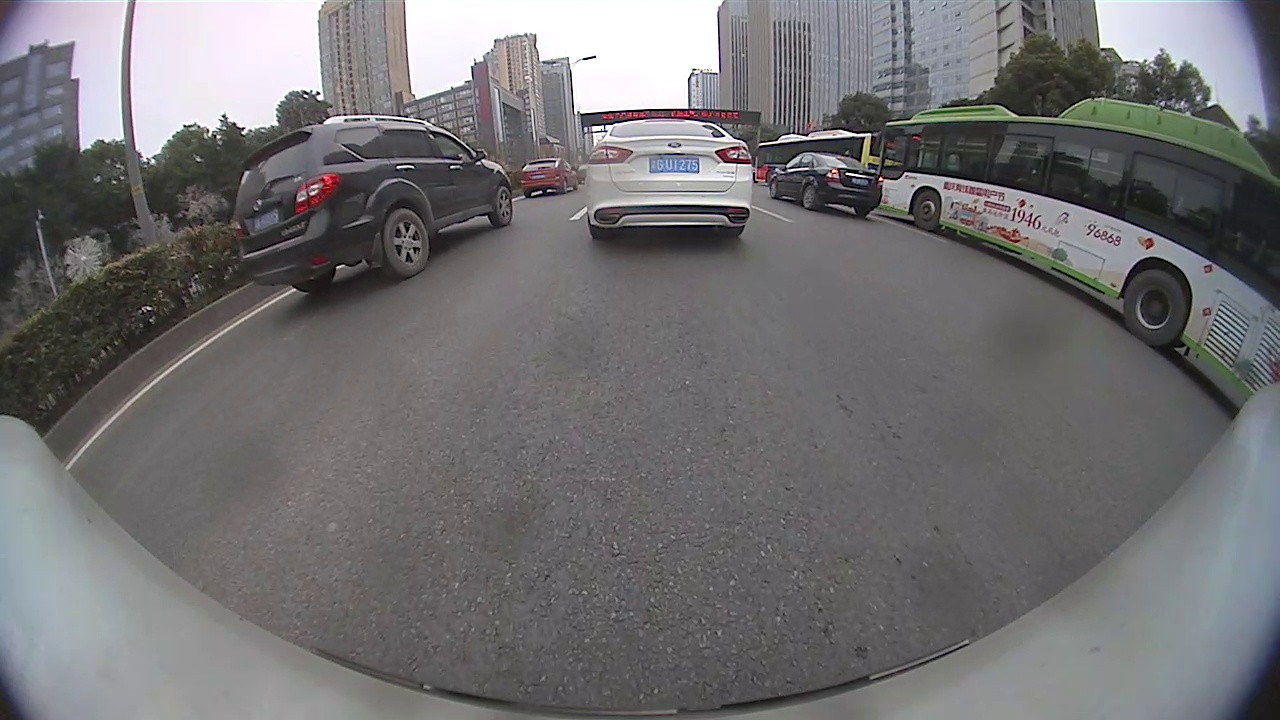bus: (876, 97, 1279, 413), (753, 129, 884, 185)
car: (231, 113, 514, 295), (582, 118, 755, 243), (769, 150, 883, 218), (521, 157, 579, 200)
front: (910, 187, 943, 235), (491, 187, 514, 228), (768, 178, 780, 200)
rear: (1125, 267, 1186, 348), (380, 206, 428, 277), (801, 185, 821, 213)
